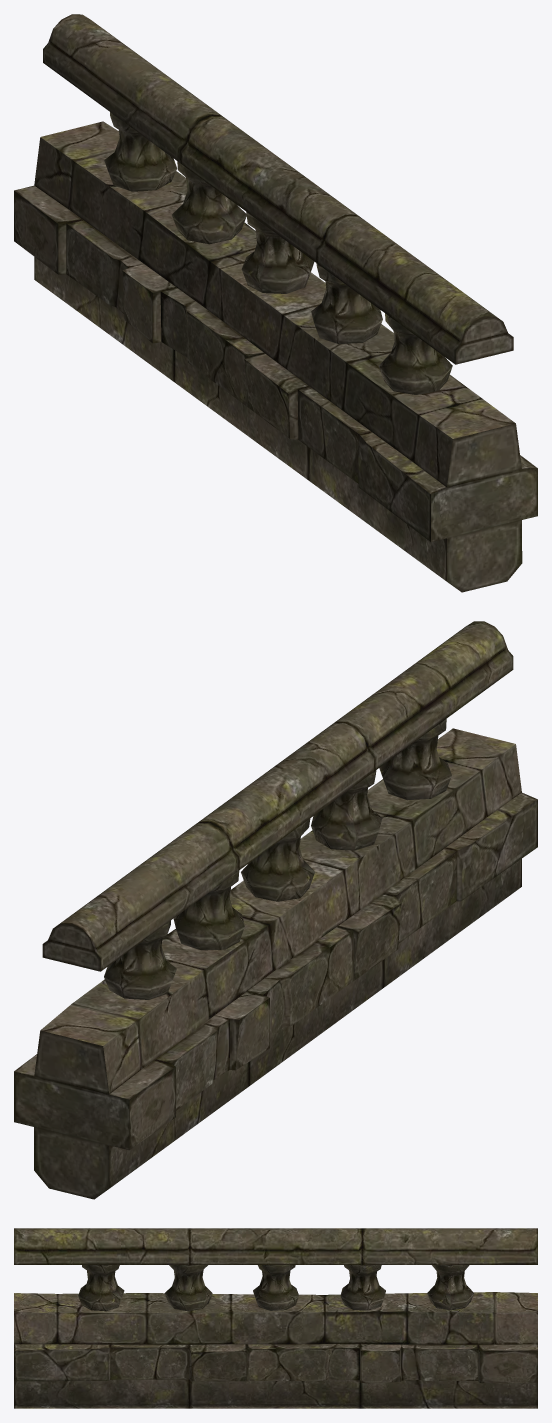
Rendered from Railing_01-transformed.glb.
3 renders of one model, top to bottom at view 1: azimuth 30°, elevation 25°; view 2: azimuth 150°, elevation 25°; view 3: azimuth 270°, elevation 25°, orthographic. The views are drawn at different scales.
Visible parts, largest first — view 1: default; view 2: default; view 3: default.
Part boxes in pixels (bbox=[...]): default: bbox=[14, 14, 537, 592]; default: bbox=[14, 621, 537, 1199]; default: bbox=[14, 1228, 537, 1408].
Size of the model in its own units: 0.9878 by 2.17 by 6.
1 material, 1 textured.
